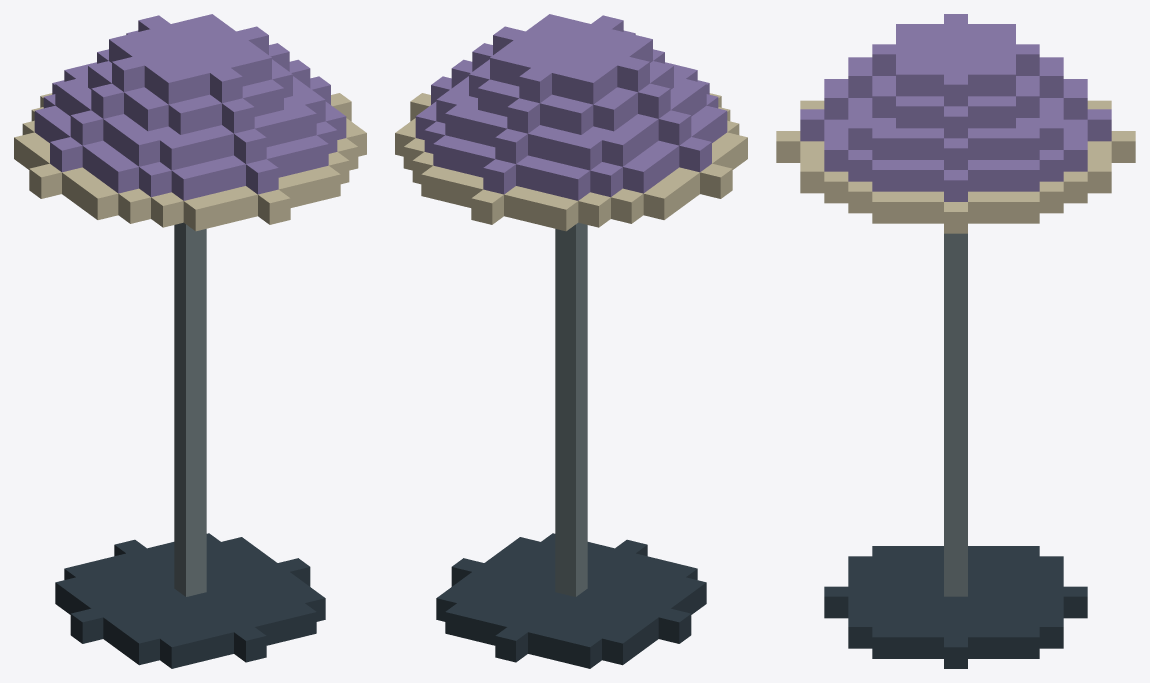
File: software-18.glb
3 views of the same model, side by side, from view 1: azimuth 30°, elevation 25°; view 2: azimuth 150°, elevation 25°; view 3: azimuth 270°, elevation 25° (orthographic).
Parts seen in each view (by area): view 1: Night lamp; view 2: Night lamp; view 3: Night lamp.
Boxes of the visible parts, x1,y1,x2,y2 form: Night lamp: (14, 14, 366, 668); Night lamp: (395, 14, 747, 668); Night lamp: (776, 14, 1135, 668).
Size of the model in its own units: 1.2 by 2.08 by 1.2.
